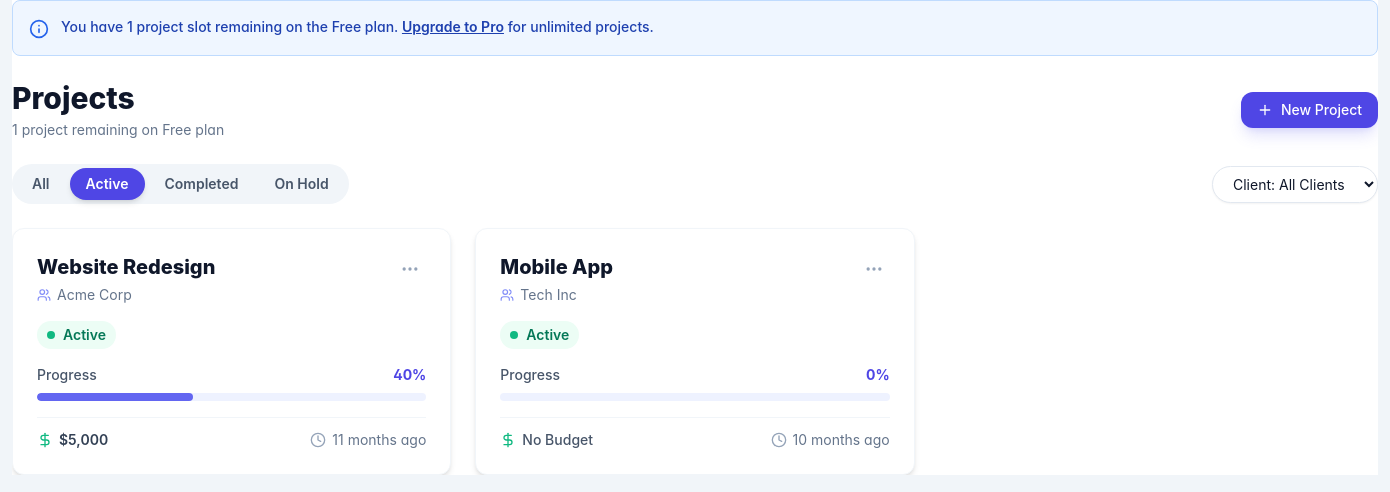
Test: ProjectsPage › Projects List › should render all project cards when All tab is clicked
Click "All" tab
Click the button "All": (41, 184) x1=16 y1=168 x2=66 y2=200
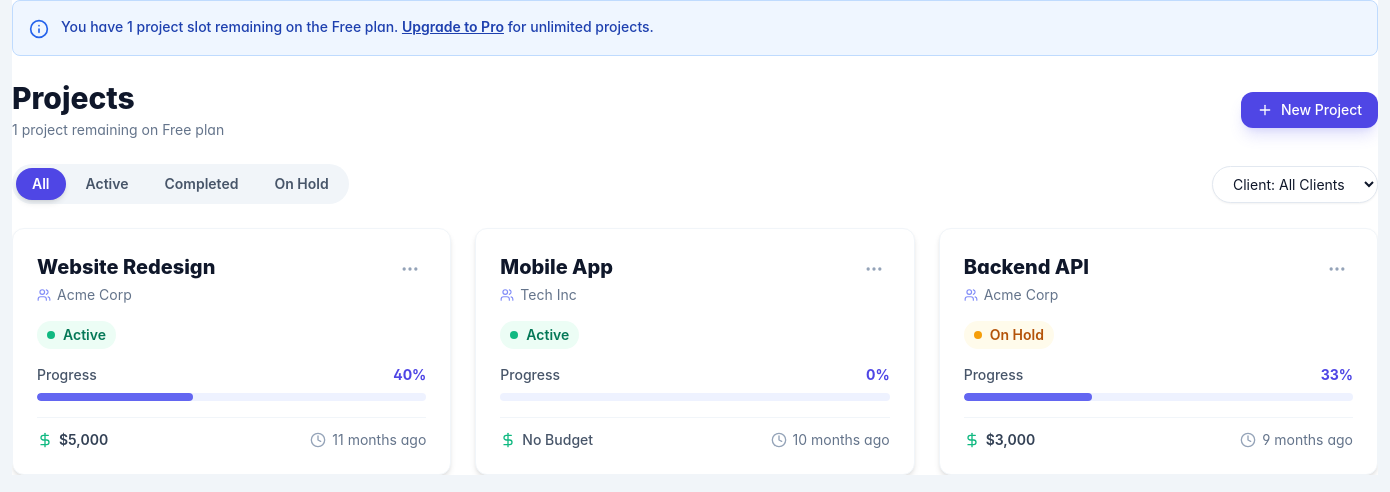
Expected: the heading "Website Redesign" is shown, x1=37 y1=253 x2=215 y2=281
Now the heading "Backend API" is shown, box x1=964 y1=253 x2=1089 y2=281
